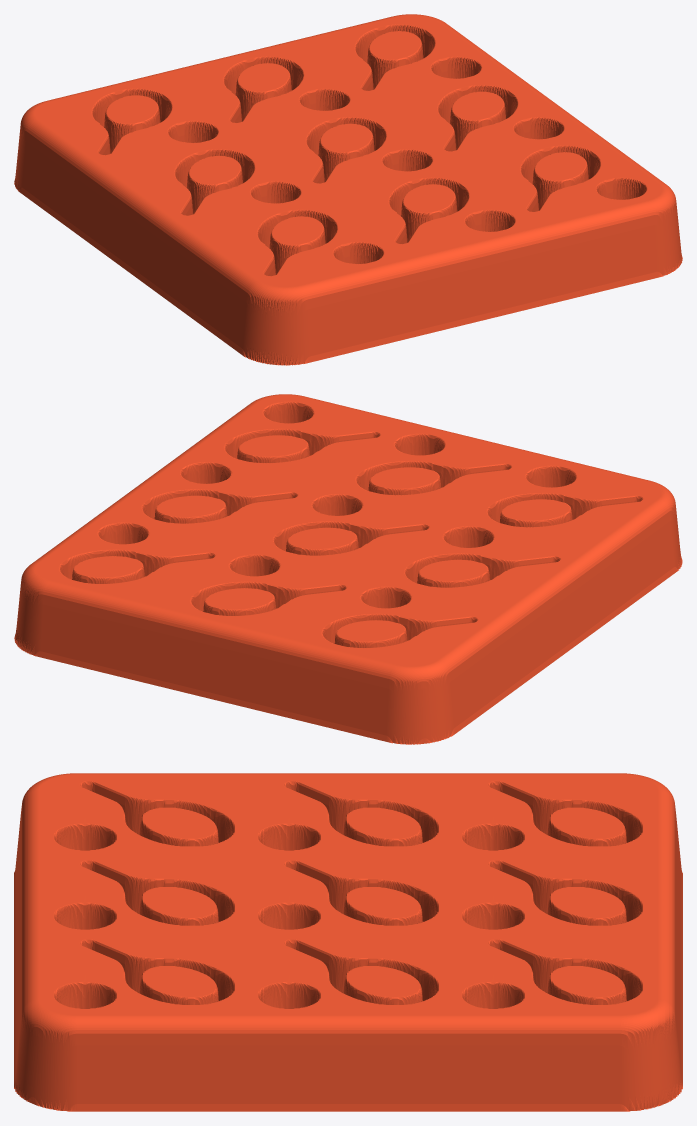
The model's file is mold.glb.
3 renders of one model, top to bottom at view 1: azimuth 30°, elevation 25°; view 2: azimuth 150°, elevation 25°; view 3: azimuth 270°, elevation 25°, orthographic. The views are drawn at different scales.
Parts seen in each view (by area): view 1: geometry_0; view 2: geometry_0; view 3: geometry_0.
Part boxes in pixels (x1,y1,x2,y2): geometry_0: [14, 14, 682, 365]; geometry_0: [14, 394, 682, 744]; geometry_0: [14, 773, 682, 1111].
Size of the model in its own units: 0.0892 by 0.0136 by 0.0964.
